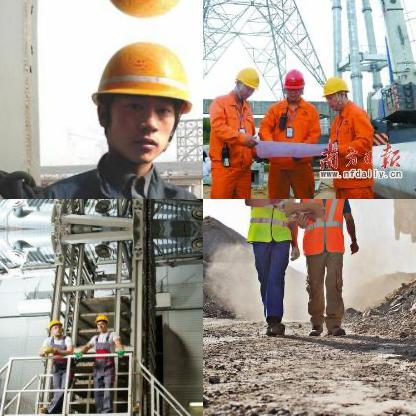Helmet: (79, 35, 201, 172), (78, 0, 202, 23), (318, 70, 350, 112), (230, 61, 260, 99), (280, 65, 306, 105), (46, 316, 64, 336), (90, 312, 107, 330)
